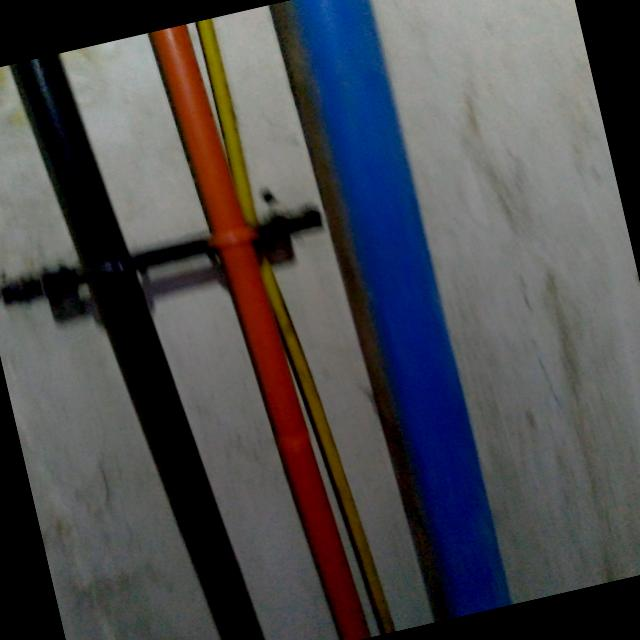gas: (9, 52, 265, 640), (277, 0, 501, 623), (147, 24, 372, 640)
